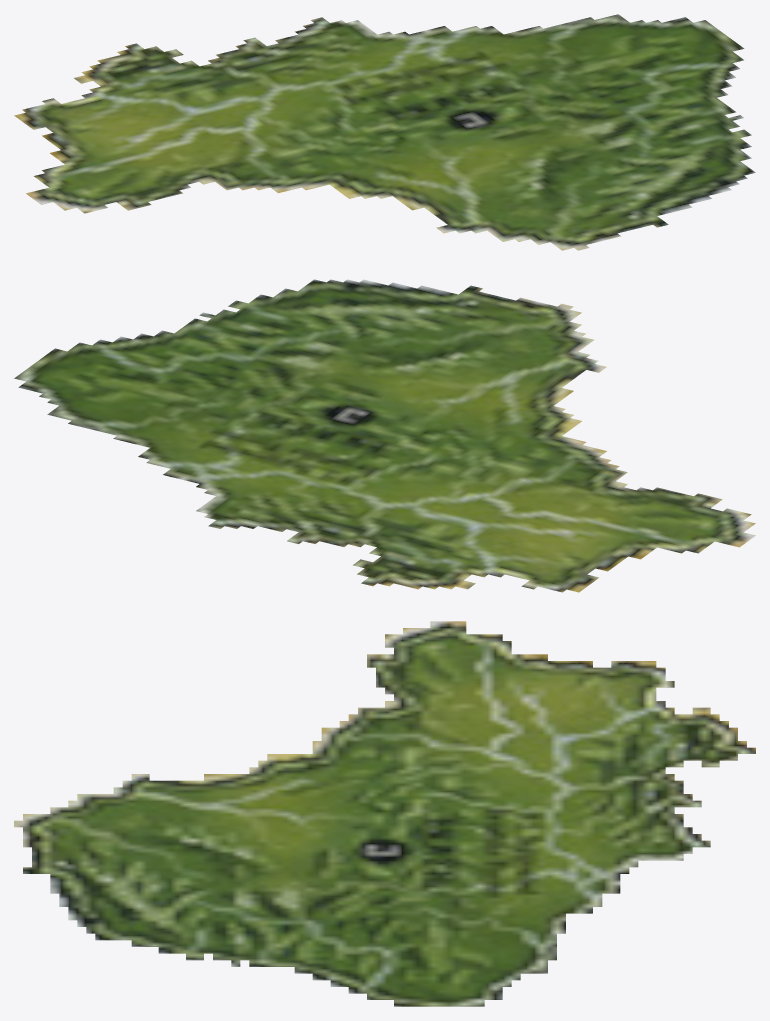
The model's file is brazil.gltf.
3 views of the same model, one above another, from view 1: azimuth 30°, elevation 25°; view 2: azimuth 150°, elevation 25°; view 3: azimuth 270°, elevation 25° (orthographic). The views are drawn at different scales.
Visible parts, largest first — view 1: Plane; view 2: Plane; view 3: Plane.
Boxes of the visible parts, bbox=[...] form: Plane: bbox=[14, 14, 755, 250]; Plane: bbox=[14, 279, 755, 592]; Plane: bbox=[14, 621, 755, 1006].
Bounding box in the file's own units: 0.5726 × 0 × 0.4657.
1 material, 1 textured.
